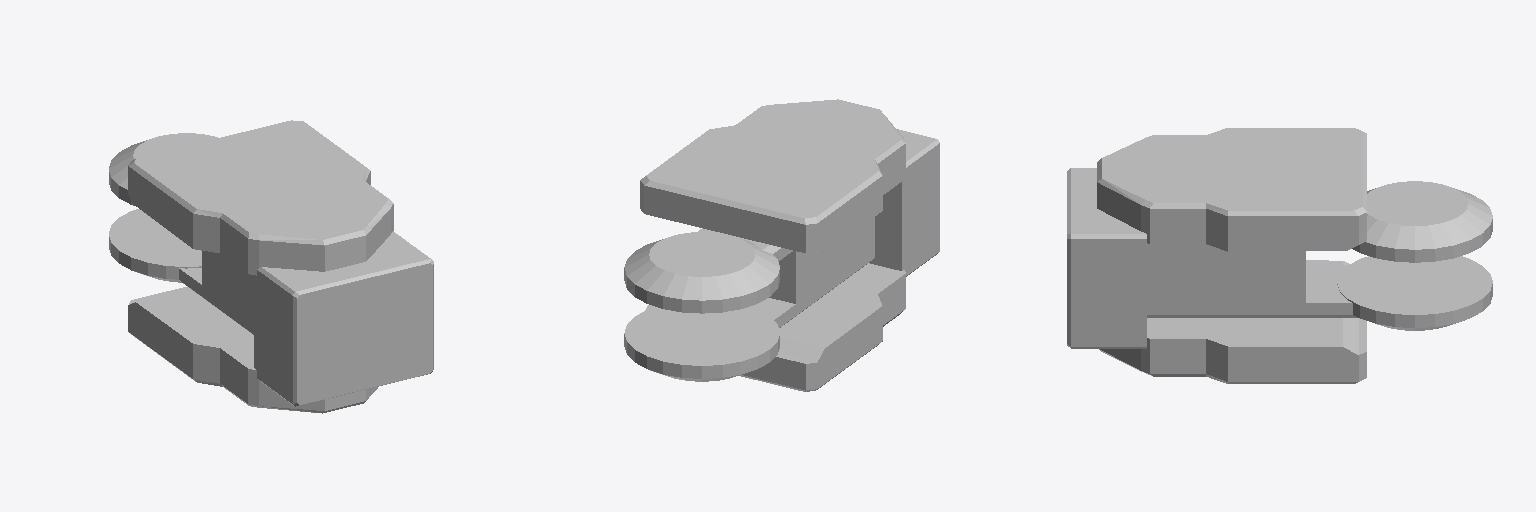
The model's file is l-lower-arm.obj.
The picture shows the model from 3 angles: view 1: azimuth 30°, elevation 25°; view 2: azimuth 150°, elevation 25°; view 3: azimuth 270°, elevation 25°; orthographic projection.
Parts seen in each view (by area): view 1: l-lower-arm.obj; view 2: l-lower-arm.obj; view 3: l-lower-arm.obj.
Part boxes in pixels (left/top/right/bottom): l-lower-arm.obj: left=109, top=120, right=433, bottom=413; l-lower-arm.obj: left=624, top=99, right=939, bottom=391; l-lower-arm.obj: left=1067, top=128, right=1492, bottom=383.
Bounding box in the file's own units: 0.094 × 0.088 × 0.1958.